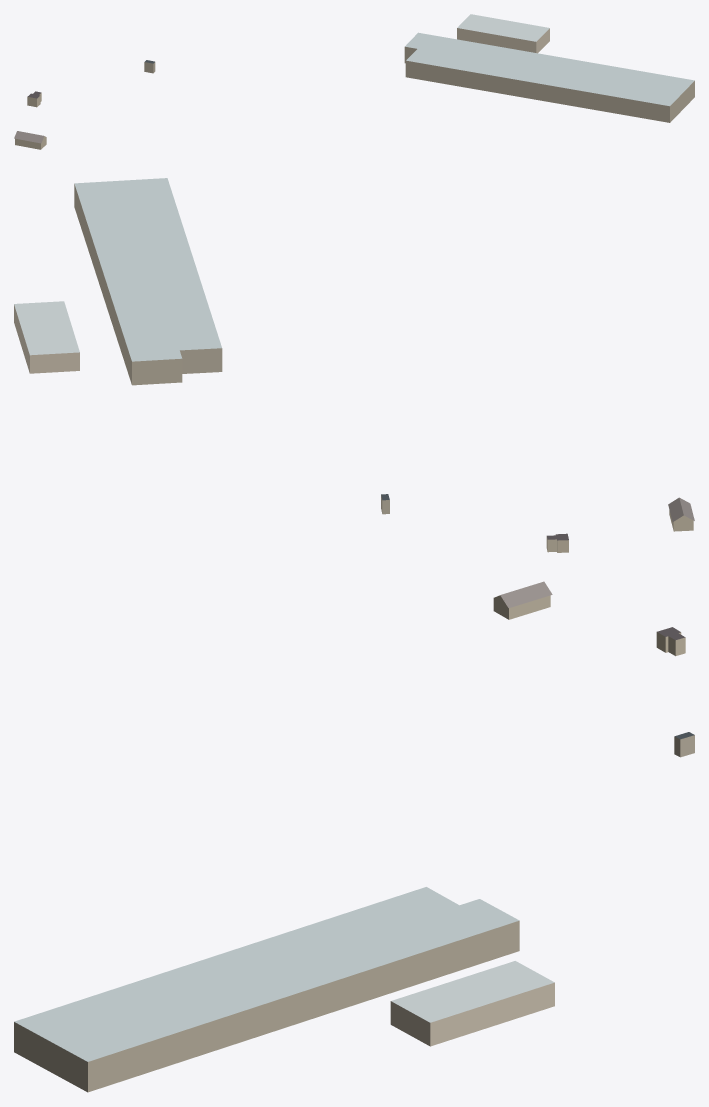
3 views of the same model, one above another, from view 1: azimuth 30°, elevation 25°; view 2: azimuth 150°, elevation 25°; view 3: azimuth 270°, elevation 25° (orthographic). The views are drawn at different scales.
Parts seen in each view (by area): view 1: tuile; view 2: tuile; view 3: tuile.
Part boxes in pixels (bbox=[...]): tuile: bbox=[14, 14, 694, 149]; tuile: bbox=[14, 178, 694, 552]; tuile: bbox=[14, 581, 694, 1092].
Bounding box in the file's own units: 274 × 8.6 × 158.
